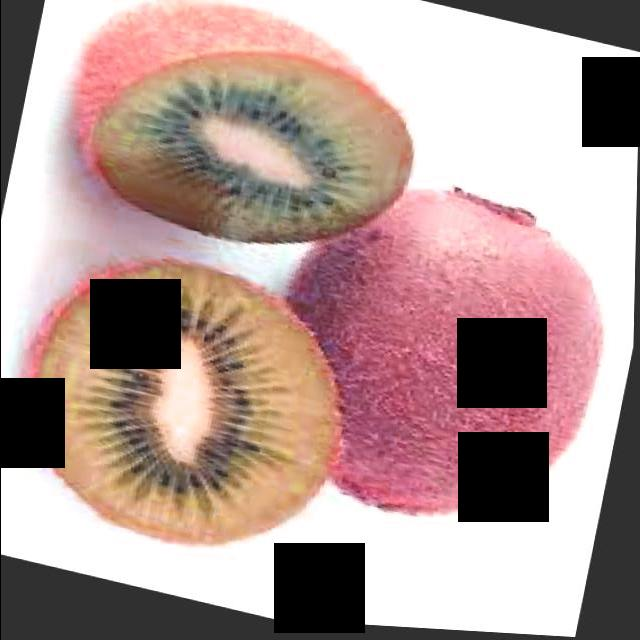kiwi: (249, 153, 636, 560)
